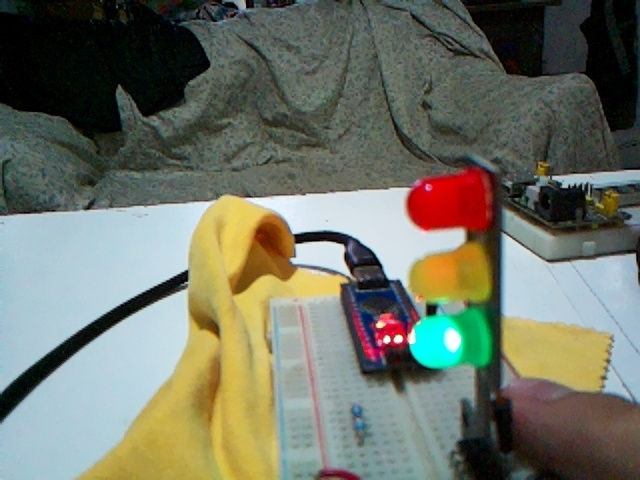traffic_light_green: (406, 155, 501, 454)
